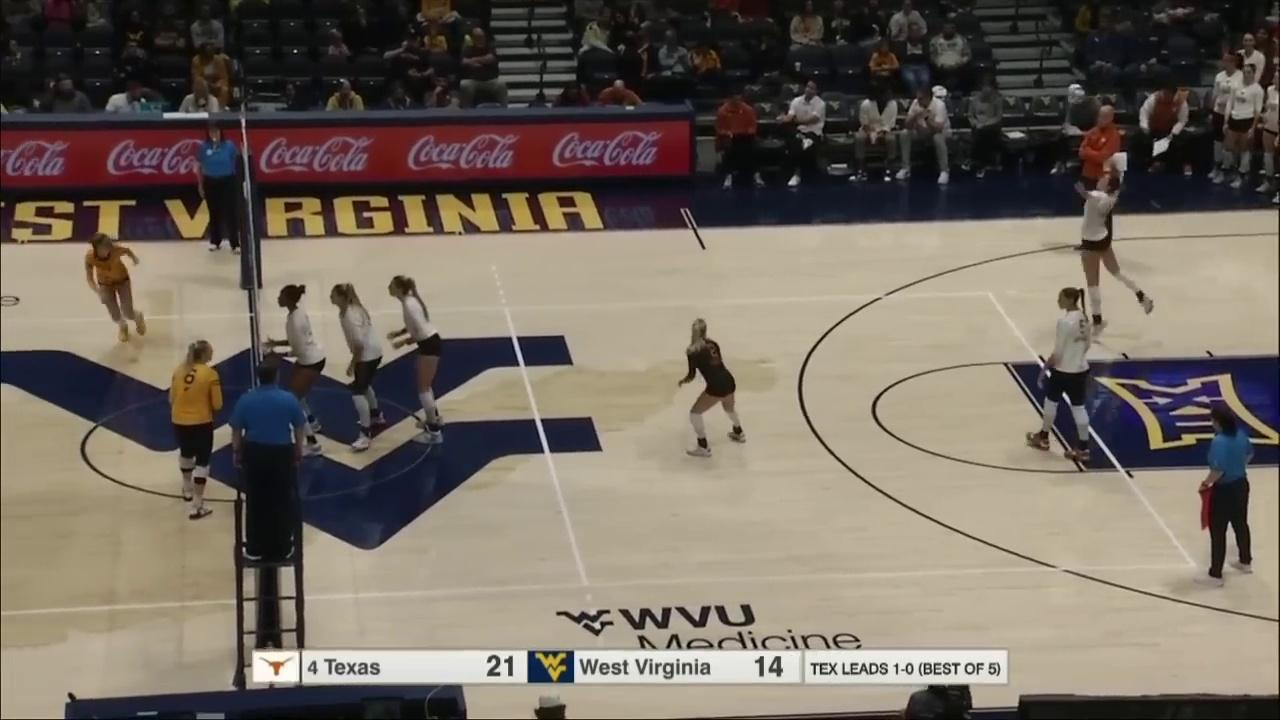player: (1068, 160, 1154, 337), (1025, 287, 1093, 463), (264, 284, 325, 455), (387, 276, 445, 444), (169, 340, 223, 519), (678, 319, 747, 458), (330, 283, 386, 448), (84, 235, 147, 340)
refree: (231, 359, 305, 559), (1197, 409, 1254, 585), (193, 123, 243, 255)
